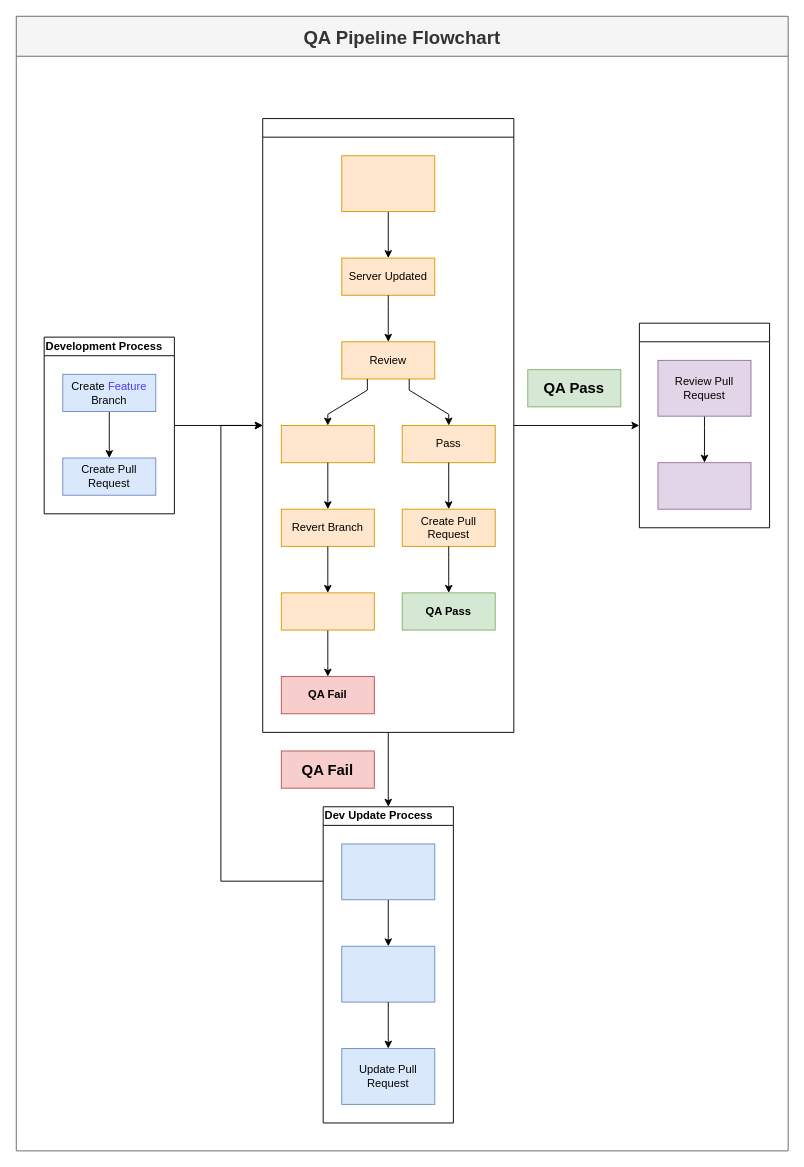
The diagram is 804 pixels wide and 1167 high, and some of its shapes have lost their labels. Here are the shapes that lost their labels. From the top down, the box of each, then its label:
(341, 155, 435, 212): Merge Pull Request into QA
(280, 425, 374, 463): Fail
(262, 118, 514, 732): QA Process
(638, 322, 770, 528): Deployment Process
(657, 462, 751, 509): Merge Pull Request into Master
(280, 592, 374, 630): Comment on Pull Request
(341, 843, 435, 900): Review comments
(341, 945, 435, 1002): Fix Problems
